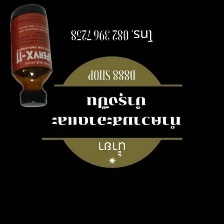book: (7, 0, 56, 108)
